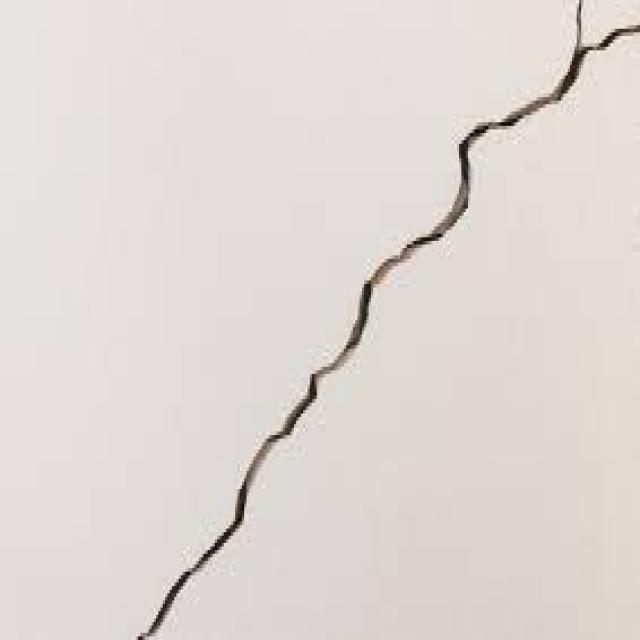Crack: (138, 0, 638, 636)
